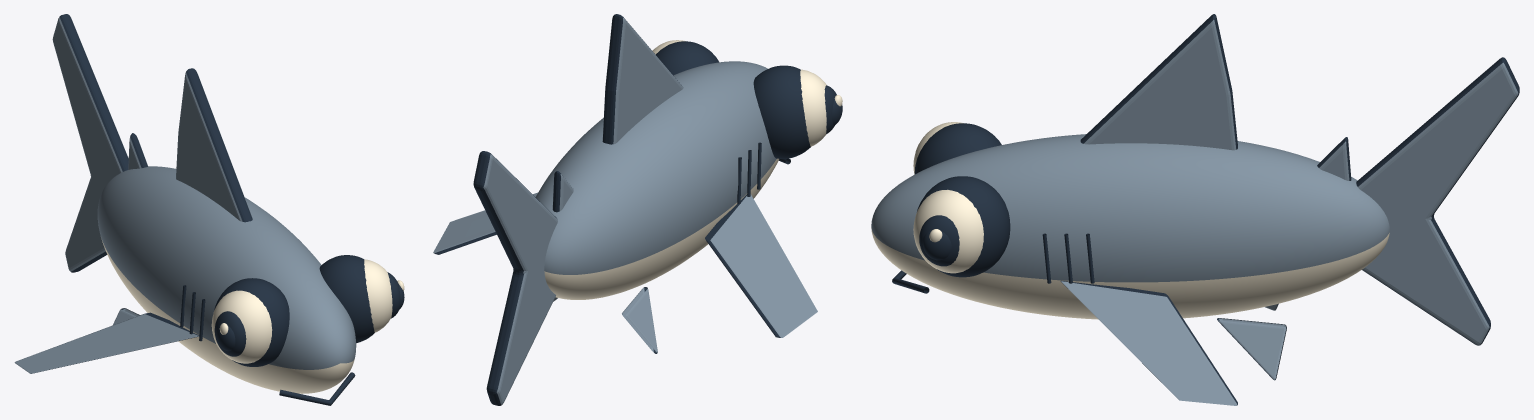
File: shark-hd.glb
3 renders of one model, left to right at view 1: azimuth 30°, elevation 25°; view 2: azimuth 150°, elevation 25°; view 3: azimuth 270°, elevation 25°, orthographic. The views are drawn at different scales.
Parts seen in each view (by area): view 1: BodyMesh, TailMesh; view 2: BodyMesh, TailMesh; view 3: BodyMesh, TailMesh.
Part boxes in pixels (bbox=[...]): BodyMesh: bbox=[14, 68, 404, 405]; TailMesh: bbox=[52, 14, 128, 272]; BodyMesh: bbox=[433, 14, 842, 353]; TailMesh: bbox=[473, 151, 557, 405]; BodyMesh: bbox=[871, 14, 1389, 405]; TailMesh: bbox=[1356, 57, 1519, 345].
Size of the model in its own units: 1.92 by 1.51 by 2.69.
